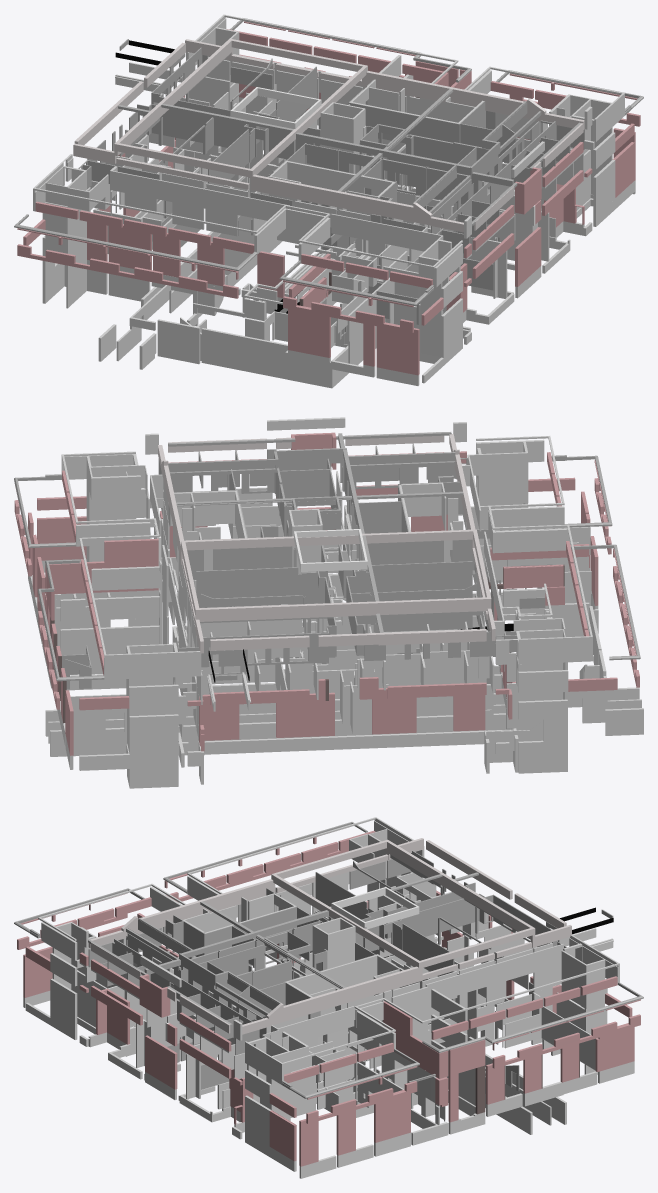
File: on_ott_arc_220485353_walls.glb
The picture shows the model from 3 angles, top to bottom: view 1: azimuth 30°, elevation 25°; view 2: azimuth 150°, elevation 25°; view 3: azimuth 270°, elevation 25°; orthographic projection. The views are drawn at different scales.
Size of the model in its own units: 74.13 by 18.97 by 71.57.
